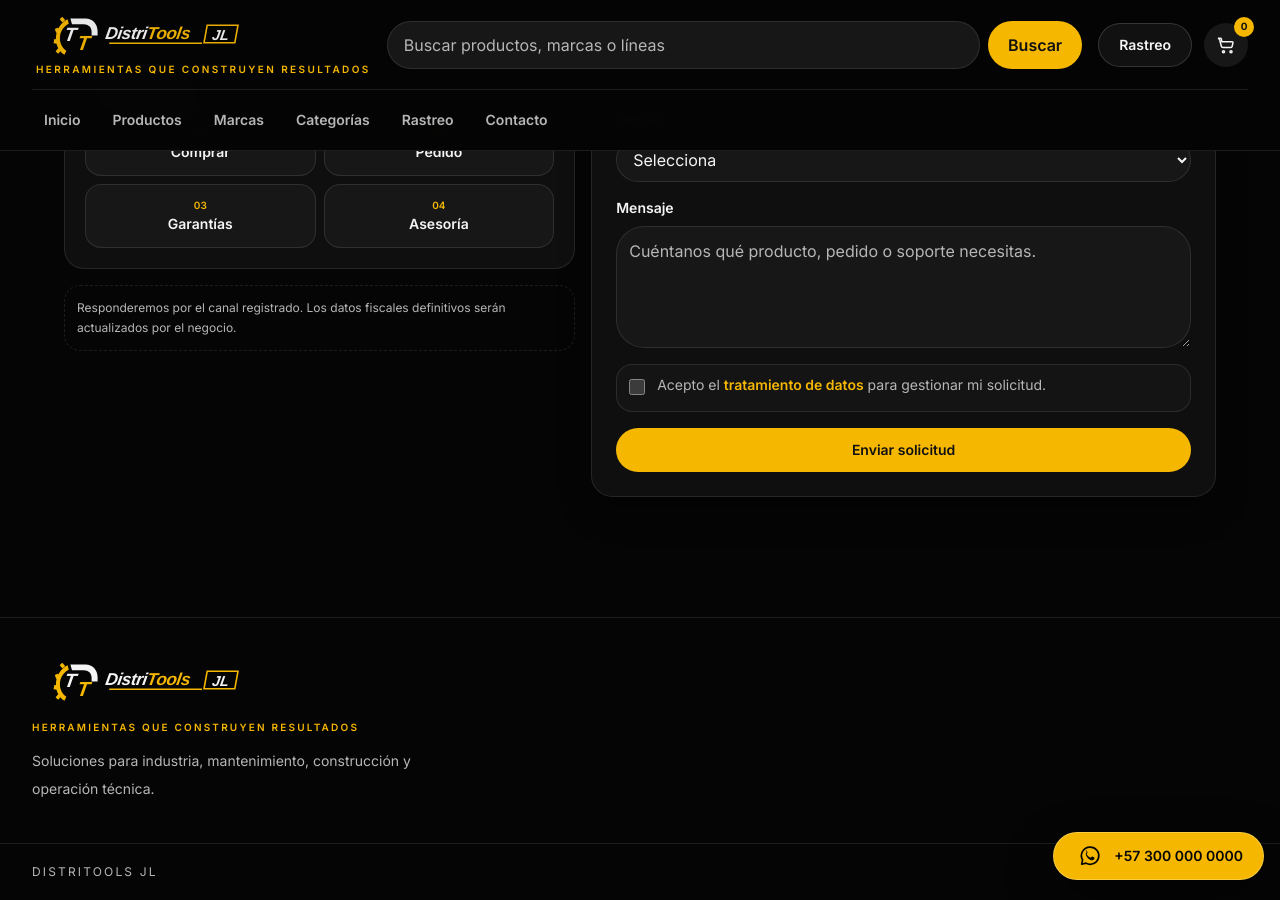
Test: smoke frontend base › contacto renderiza página profesional y valida formulario
(page scrolled)
Expected: the text "+57 300 000 0000" is shown, [1114,846,1243,866]
Expected: the link "01 Comprar" is shown, [85,112,316,176]
Click the button "Enviar solicitud" at (904, 450), box [616,428,1191,472]
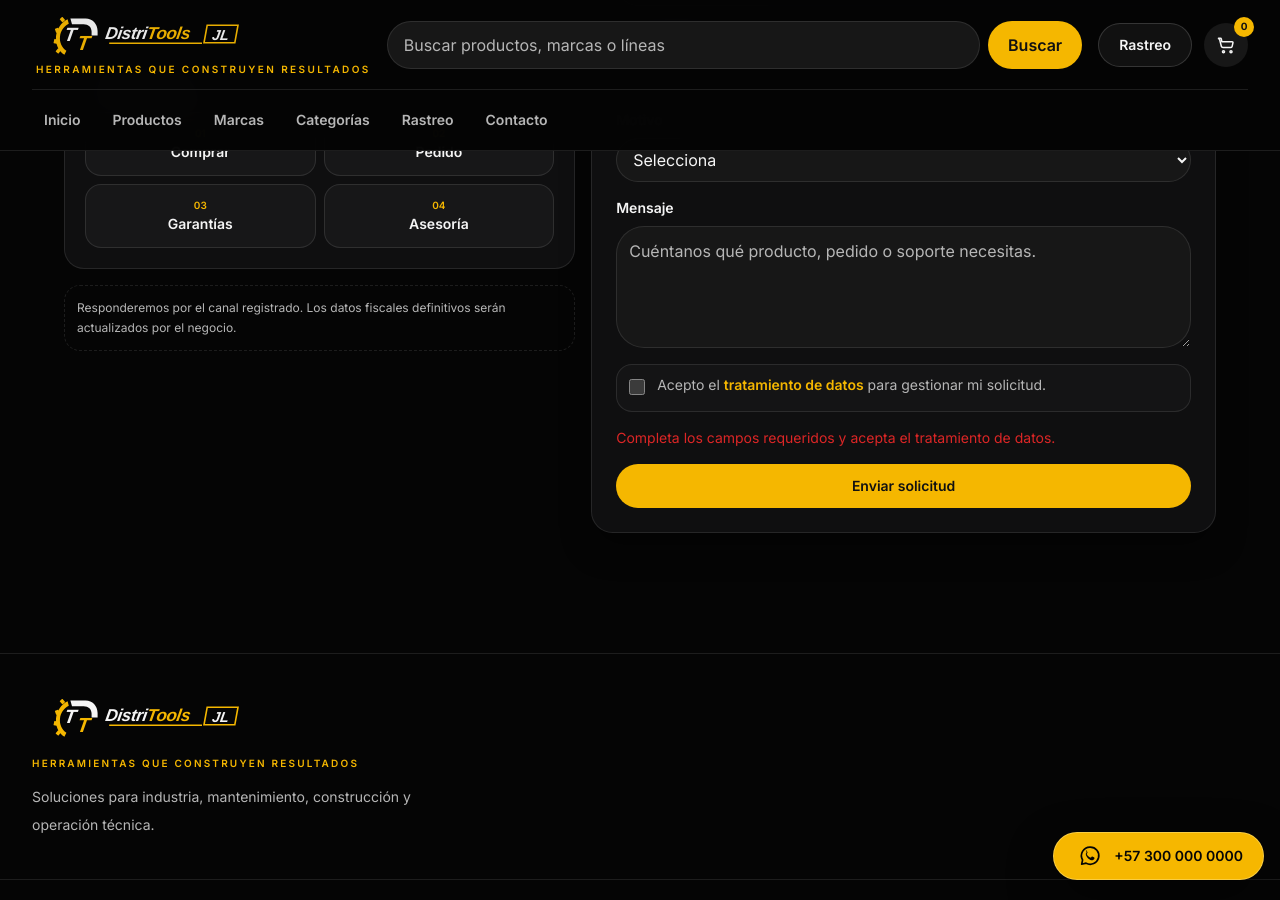
Now the text "Completa los campos requeridos" is shown, box [616,429,1055,446]
